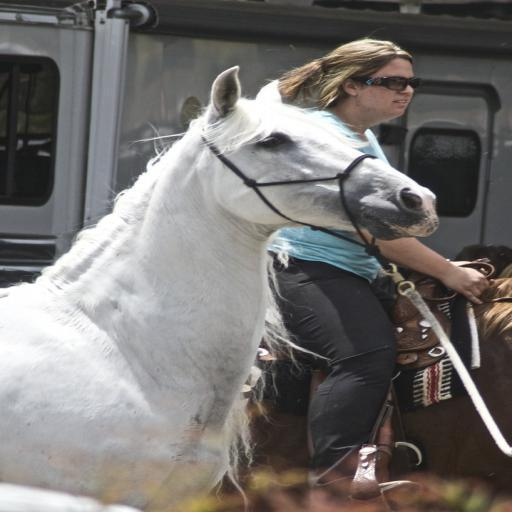horse: (0, 62, 440, 512), (209, 276, 512, 512)
